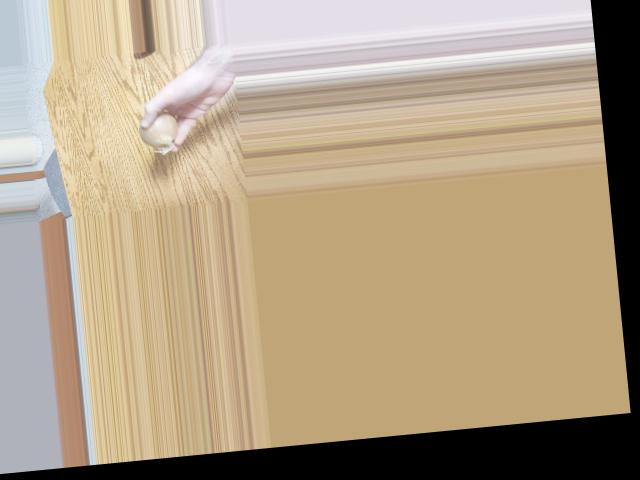onion: (137, 109, 178, 149)
